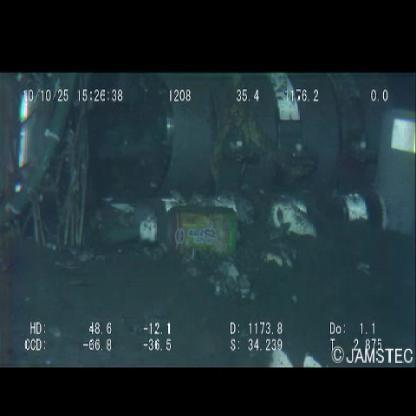Rác: (138, 205, 240, 261)
